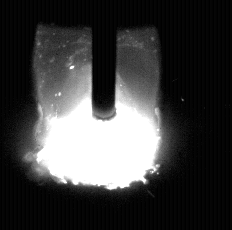arame: (93, 0, 117, 121)
poca: (37, 0, 158, 230)
